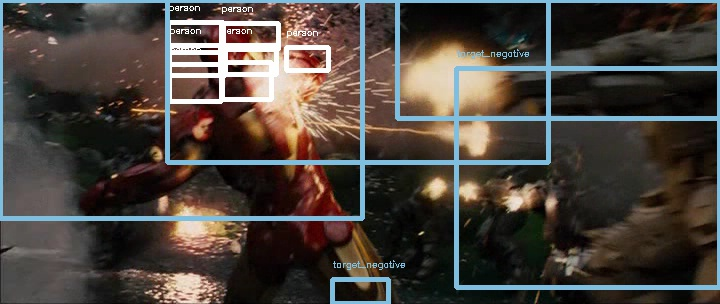person: (197, 9, 254, 71), (196, 9, 253, 71), (198, 9, 255, 71), (197, 8, 254, 70), (197, 10, 254, 72)
target_negative: (508, 169, 642, 293), (270, 219, 511, 285), (31, 124, 371, 157), (99, 248, 135, 293), (597, 141, 611, 228)
